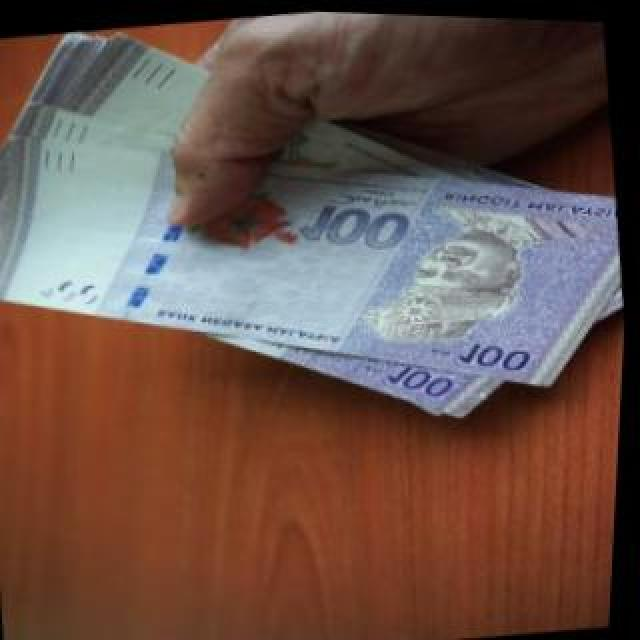100 Ringgit: (0, 58, 638, 453)
